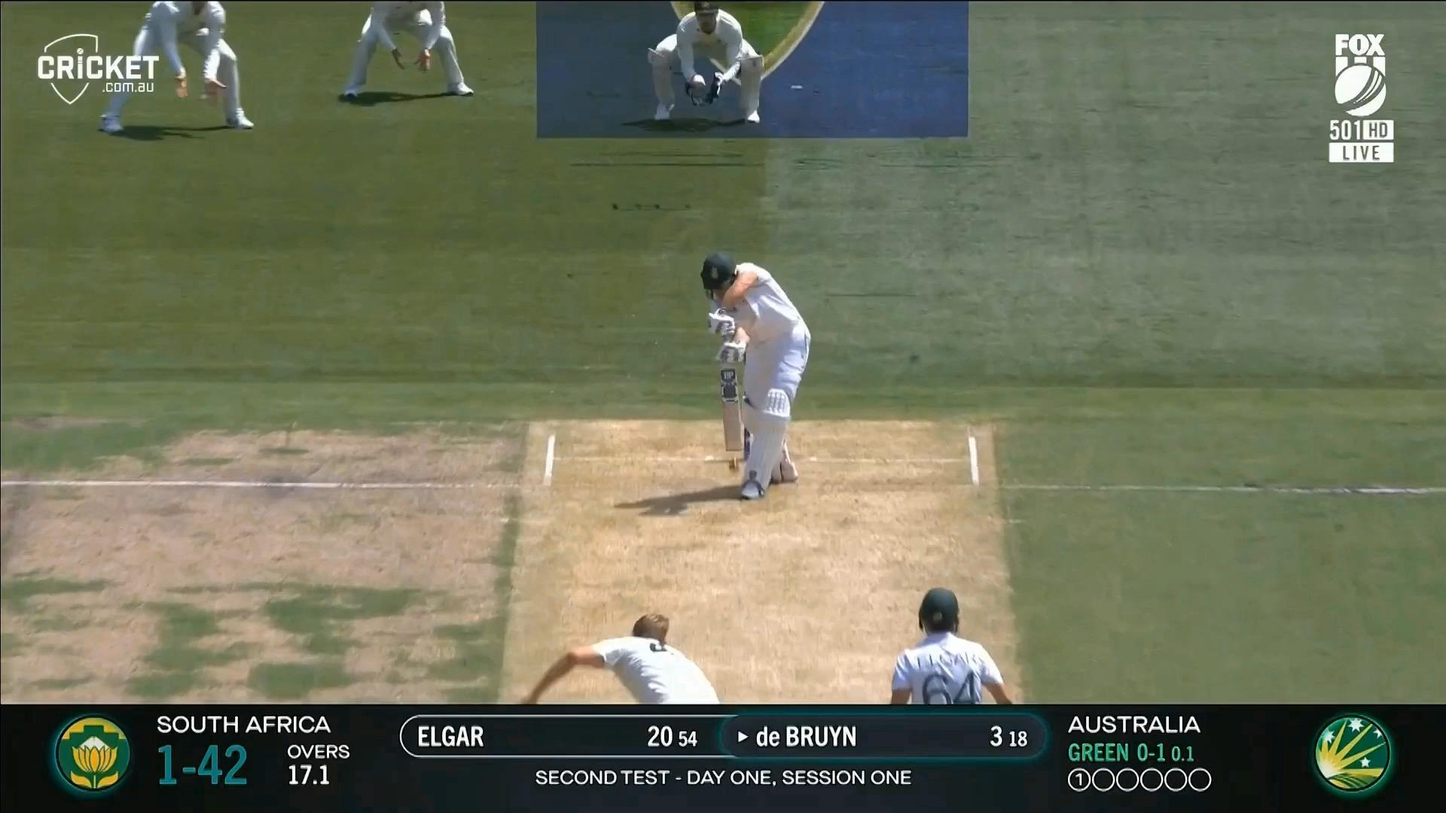BM 1: (700, 249, 813, 501)
BO: (521, 611, 725, 704)
